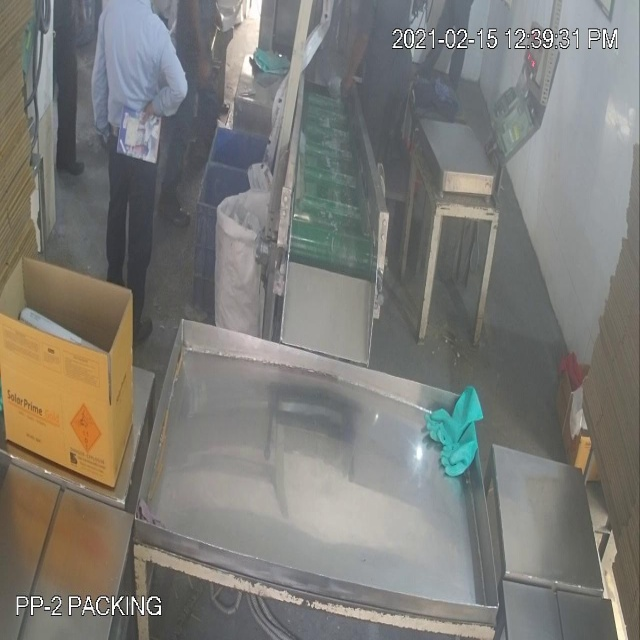Guantes: (425, 376, 486, 485)
Sin_guantes: (139, 36, 196, 129), (183, 1, 223, 95), (340, 9, 365, 105)
